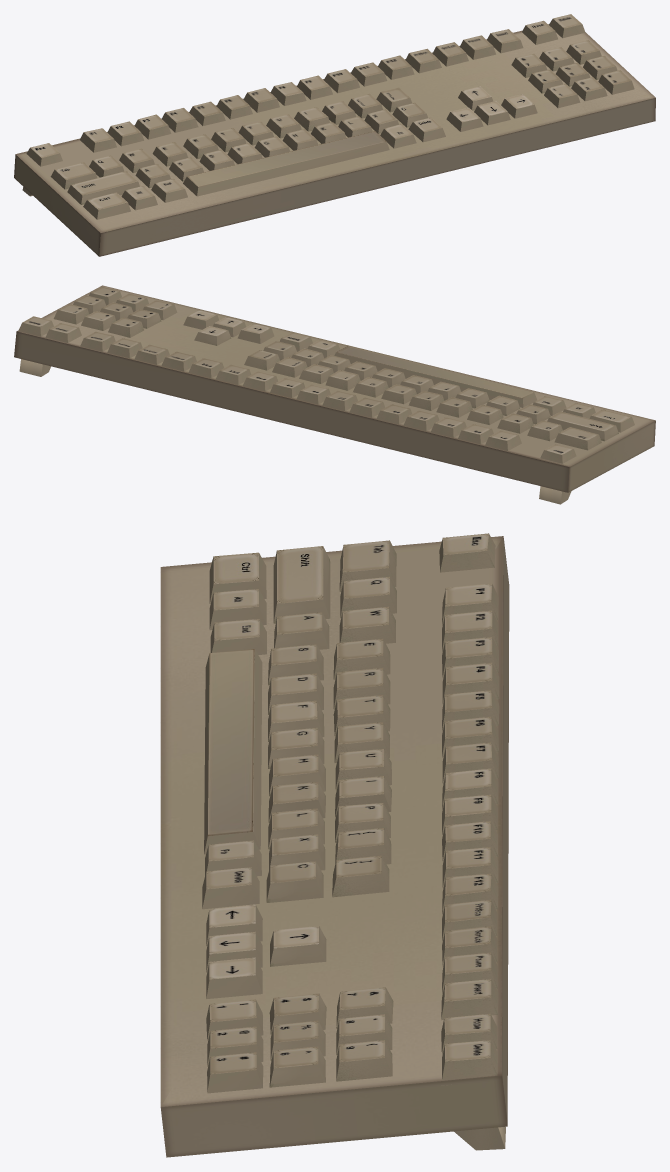
The model's file is keyboard2.obj.
3 renders of one model, top to bottom at view 1: azimuth 30°, elevation 25°; view 2: azimuth 150°, elevation 25°; view 3: azimuth 270°, elevation 25°, orthographic. The views are drawn at different scales.
Visible parts, largest first — view 1: default; view 2: default; view 3: default.
Boxes of the visible parts, x1=… form: default: x1=14, y1=14, x2=655, y2=256; default: x1=14, y1=285, x2=655, y2=504; default: x1=160, y1=533, x2=509, y2=1157.
Bounding box in the file's own units: 24.66 × 2.06 × 6.7.
Materials: 1 (1 with a texture image).
